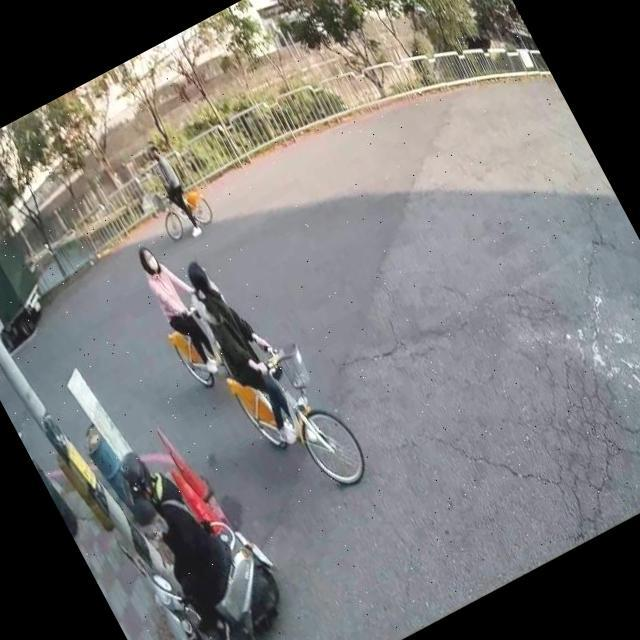person: (99, 429, 260, 640), (170, 240, 320, 457), (123, 228, 235, 385), (132, 132, 212, 247)
